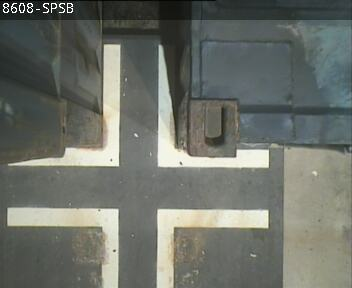groundmarker_1: (8, 43, 268, 165), (8, 208, 268, 288)
